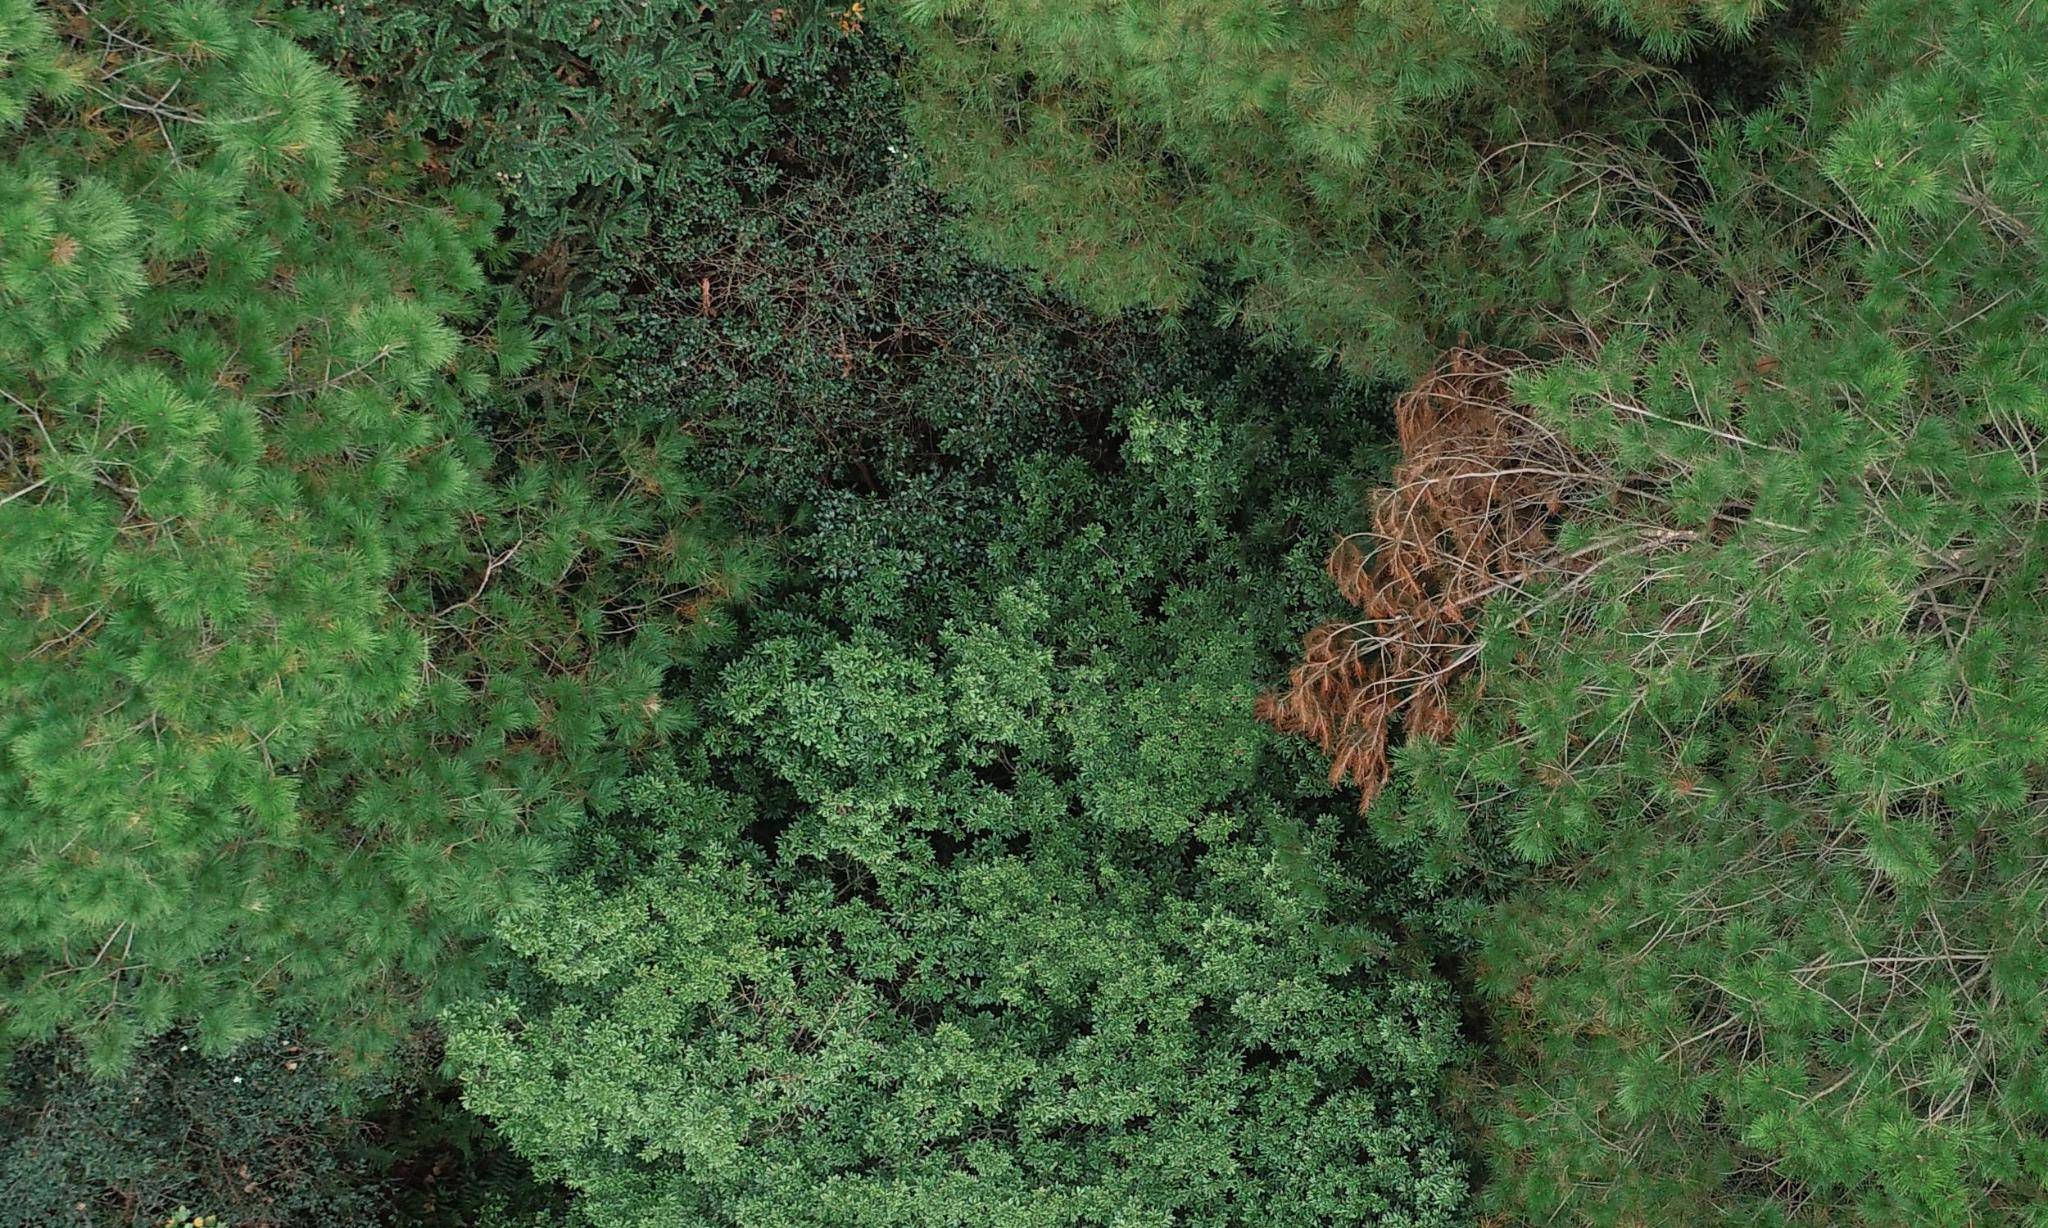heavy: (1278, 317, 1623, 754)
